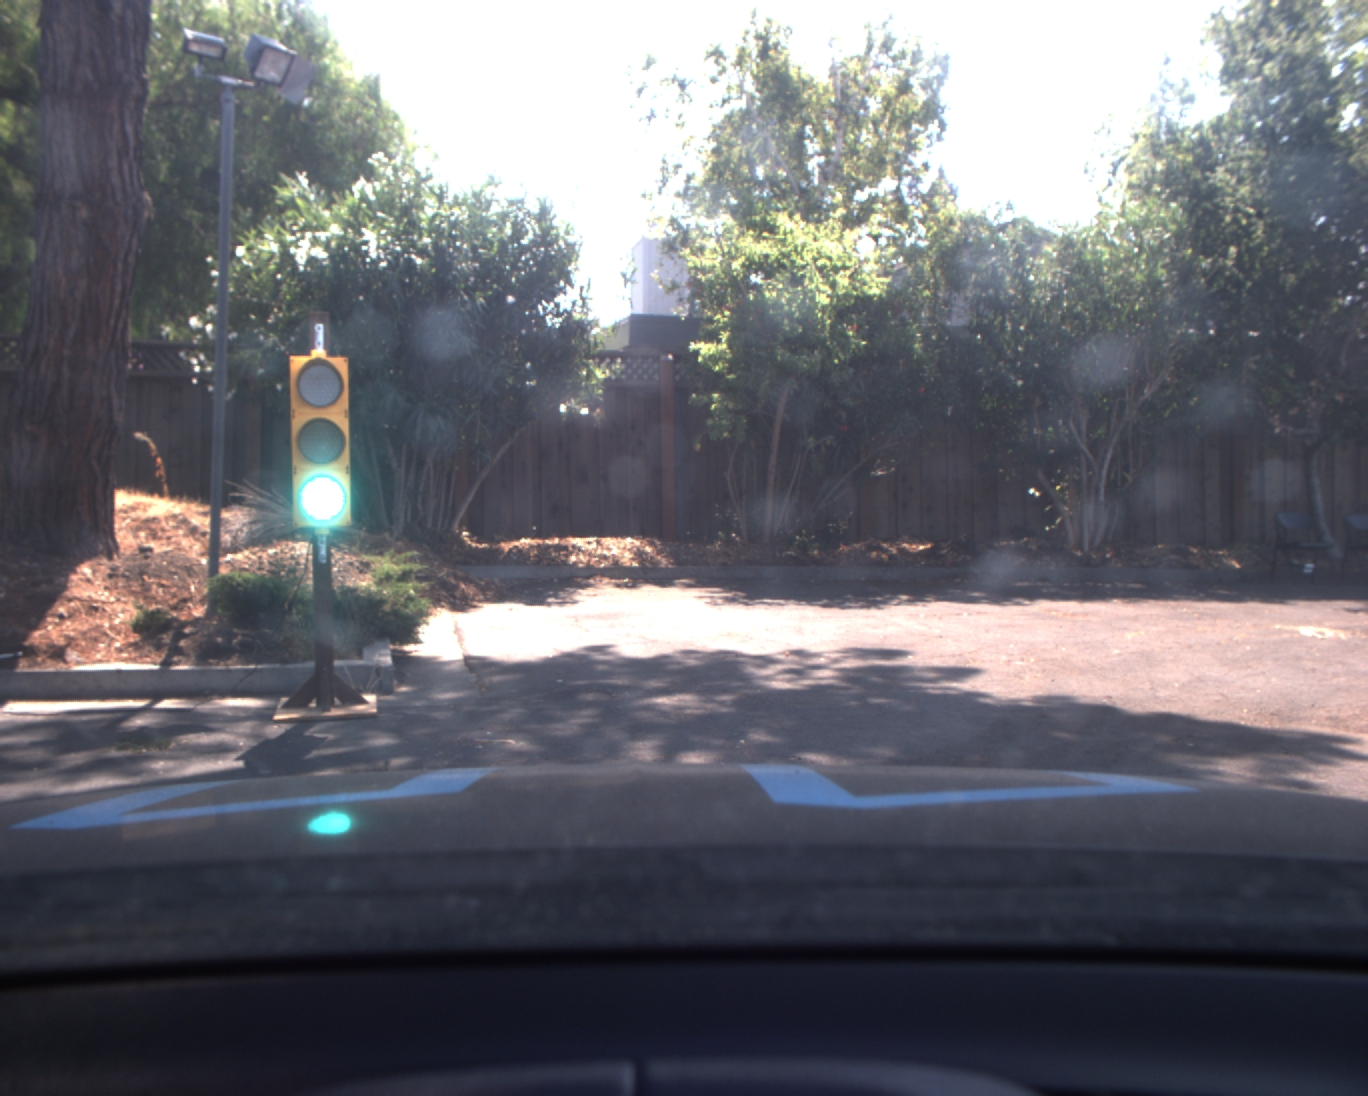green: (291, 355, 351, 527)
